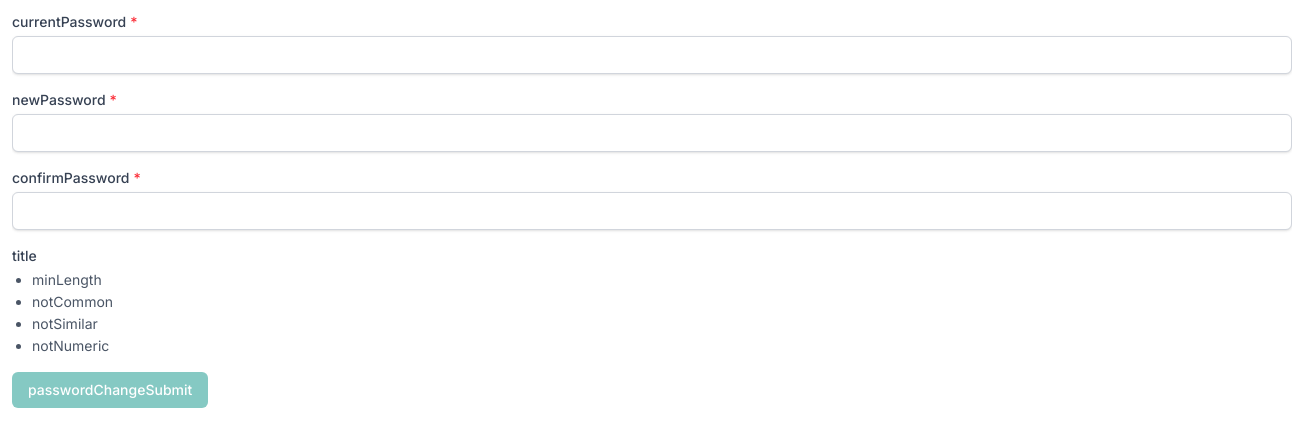
Scenario: ChangePasswordForm › disables the submit button until the form has been touched
This screenshot has width=1304, height=425.
Expected: the button "passwordChangeSubmit" is disabled, x1=12 y1=372 x2=208 y2=408
Type "a" into the password field labelled "newPassword*".
click(652, 133); type("a")  # box x1=12 y1=114 x2=1292 y2=152
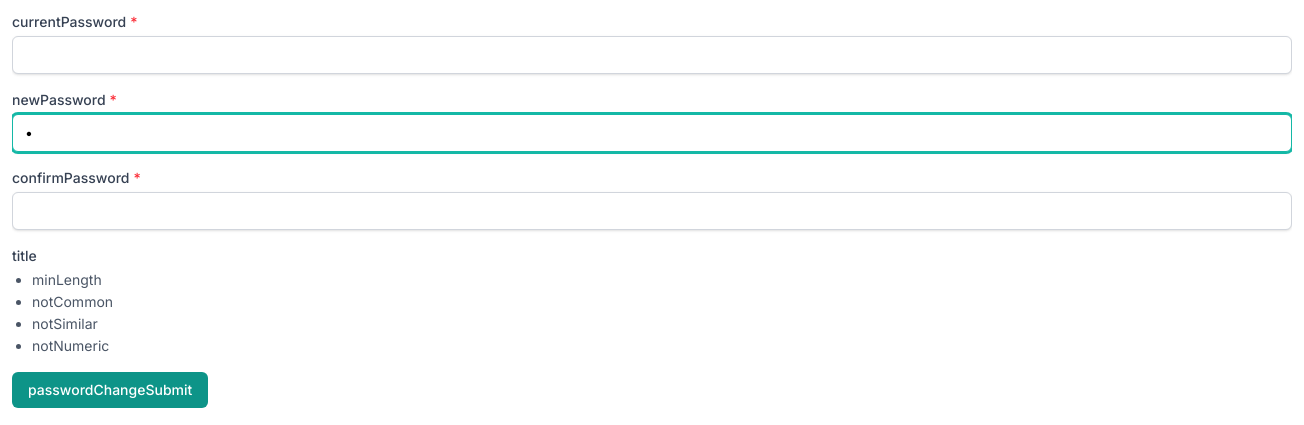
Now the button "passwordChangeSubmit" is enabled, box x1=12 y1=372 x2=208 y2=408
